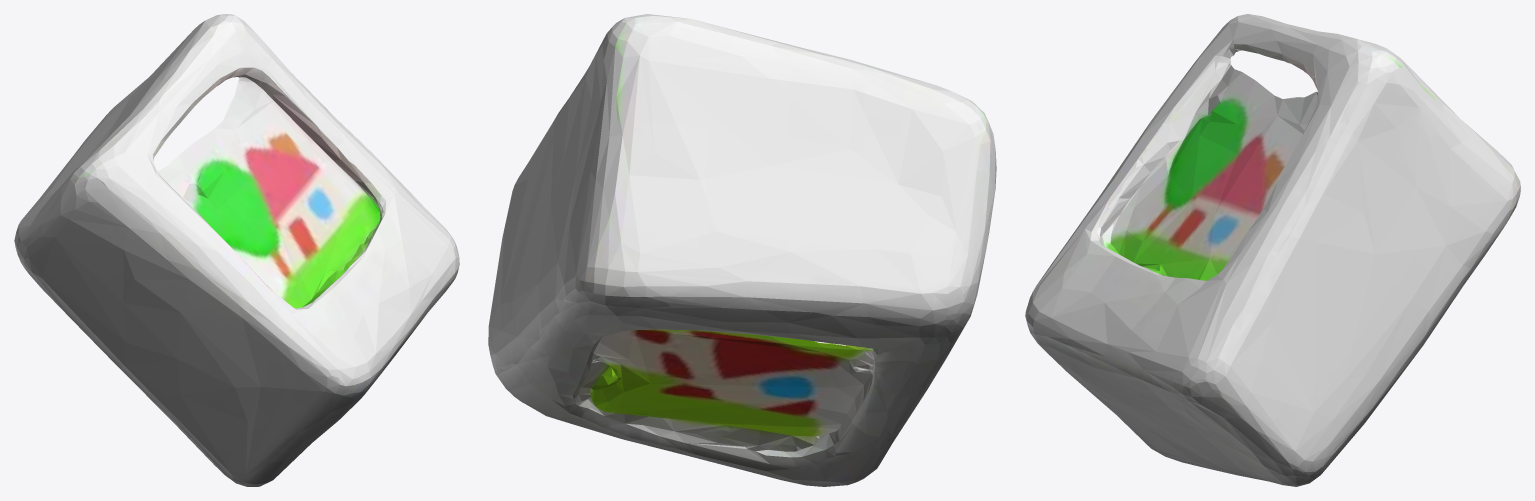
The model's file is polaroid.glb.
3 renders of one model, left to right at view 1: azimuth 30°, elevation 25°; view 2: azimuth 150°, elevation 25°; view 3: azimuth 270°, elevation 25°, orthographic. The views are drawn at different scales.
Visible parts, largest first — view 1: geometry_0; view 2: geometry_0; view 3: geometry_0.
Part boxes in pixels (bbox=[...]): geometry_0: bbox=[14, 14, 459, 486]; geometry_0: bbox=[488, 14, 996, 486]; geometry_0: bbox=[1025, 14, 1520, 486].
Size of the model in its own units: 0.9727 by 0.9466 by 0.9673.
1 material, 1 textured.
